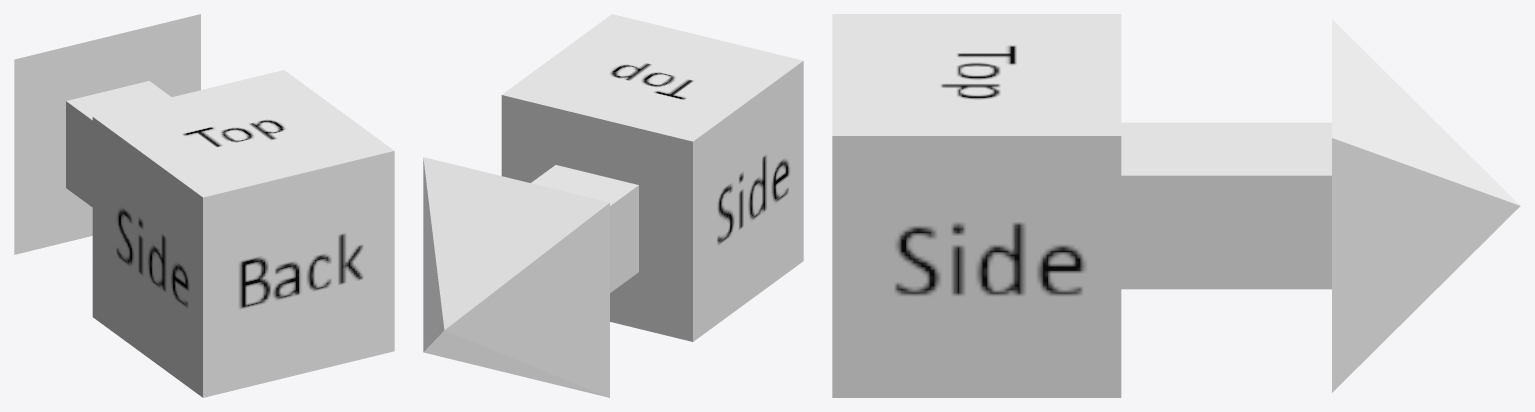
File: Placeholder.fbx
The picture shows the model from 3 angles, left to right: view 1: azimuth 30°, elevation 25°; view 2: azimuth 150°, elevation 25°; view 3: azimuth 270°, elevation 25°; orthographic projection. The views are drawn at different scales.
Visible parts, largest first — view 1: Cube; view 2: Cube; view 3: Cube.
Boxes of the visible parts, x1,y1,x2,y2 form: Cube: (14,14,394,397); Cube: (423,14,803,397); Cube: (832,14,1520,397).
Bounding box in the file's own units: 20 × 20 × 47.65.
